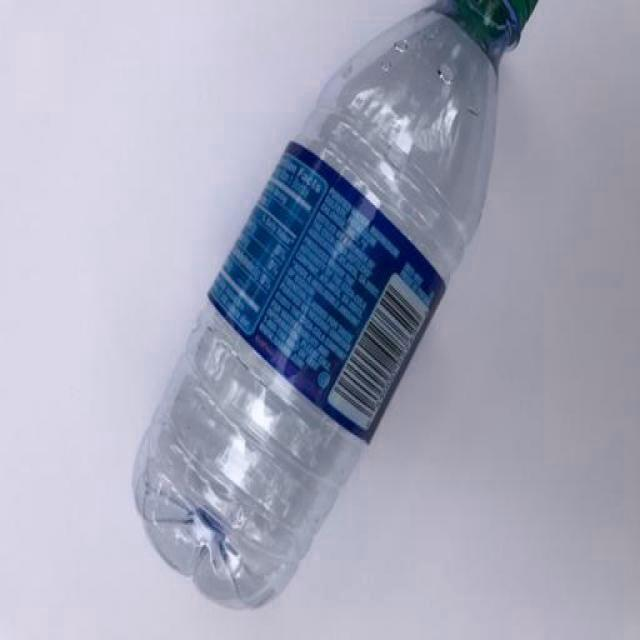bottle: (131, 0, 544, 611)
